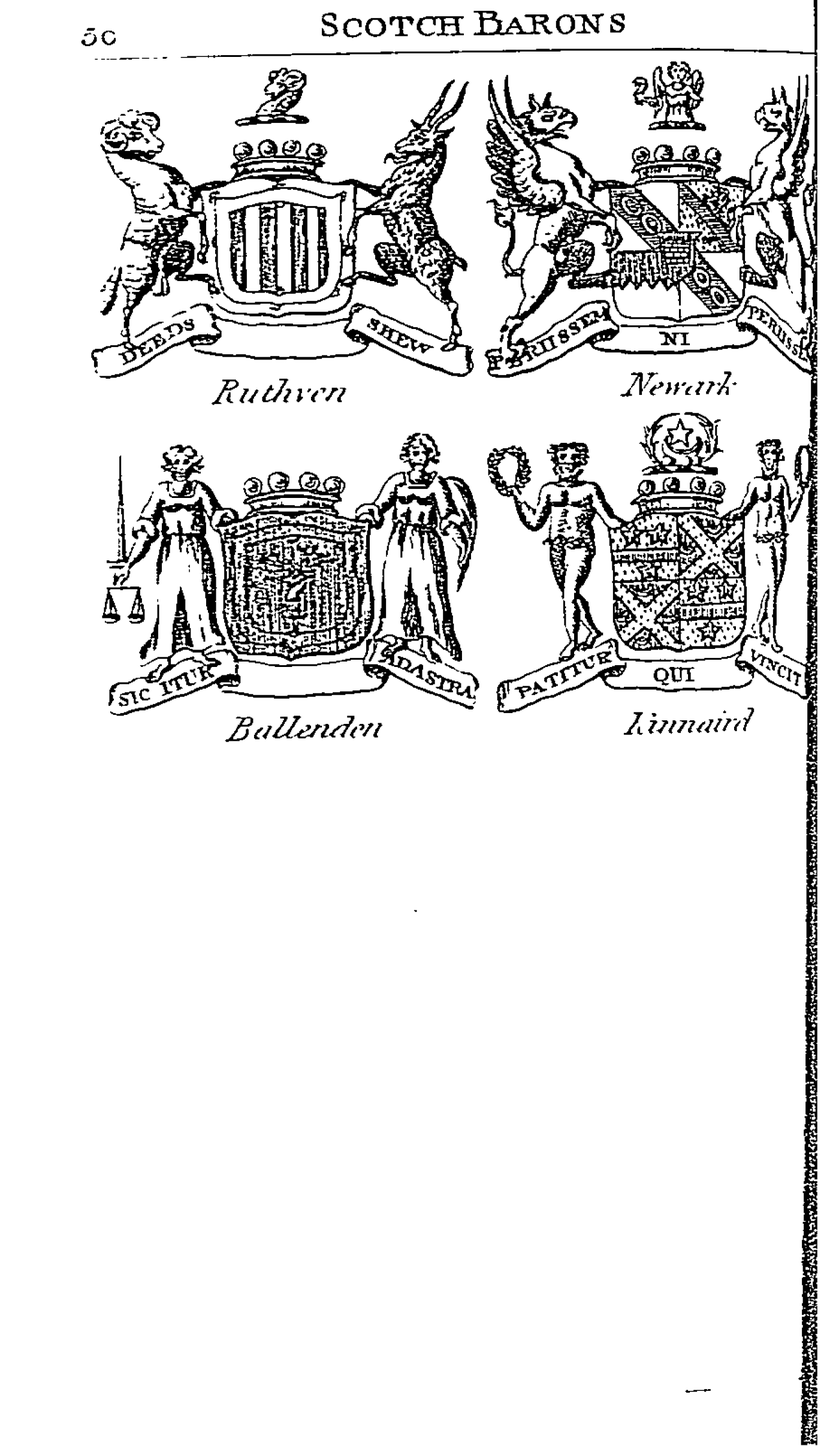coat_of_arms: (92, 62, 481, 412), (95, 417, 490, 753), (478, 59, 833, 410), (476, 414, 808, 747)
